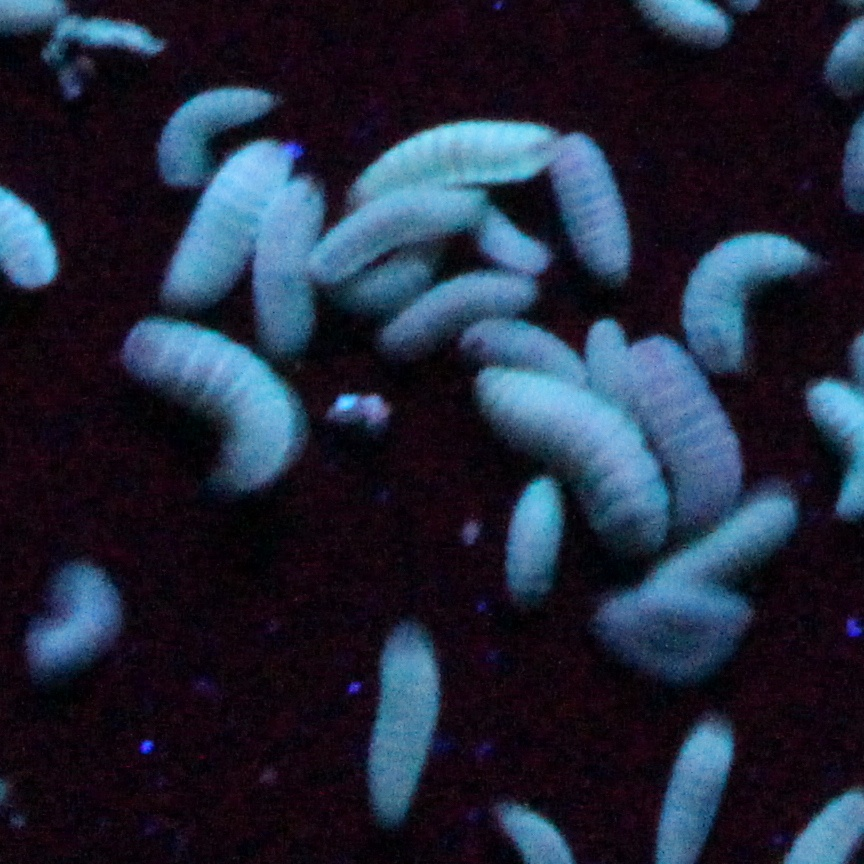larve: (464, 356, 659, 546), (121, 321, 300, 495), (627, 327, 735, 525), (170, 144, 294, 301), (644, 490, 791, 615), (340, 127, 556, 205), (360, 621, 445, 819), (693, 222, 810, 362), (306, 197, 488, 278), (542, 133, 630, 288), (656, 716, 741, 859), (377, 269, 531, 340), (162, 88, 274, 183), (34, 565, 131, 671), (255, 178, 315, 346), (467, 309, 580, 380), (503, 484, 569, 593), (466, 207, 567, 259)
